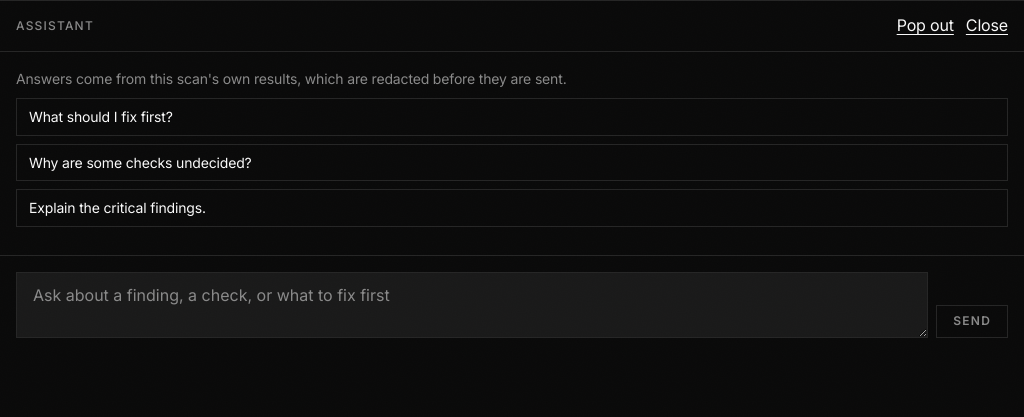
Test: Assistant › passes the earlier turns so a follow-up has something to refer to
This screenshot has width=1024, height=417.
Type "what first?" into the text box named "ask about this scan" at (472, 305), box [16, 272, 928, 338]
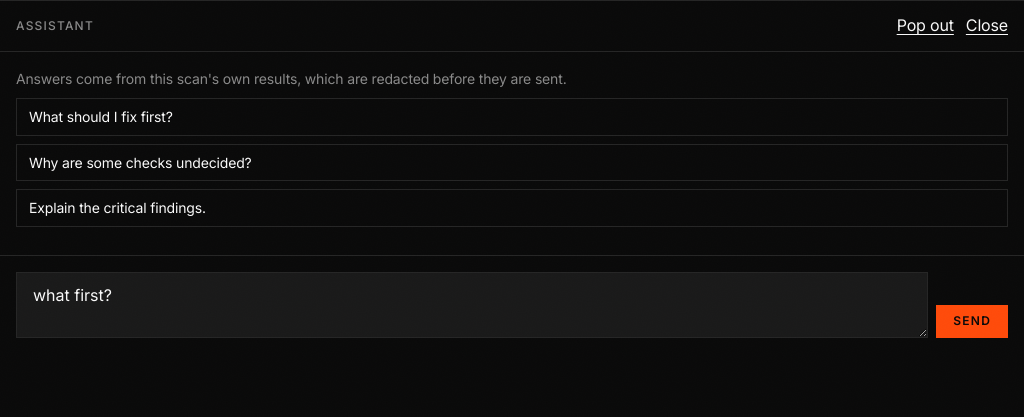
Click the button "Send" at (972, 322), box [936, 305, 1008, 338]
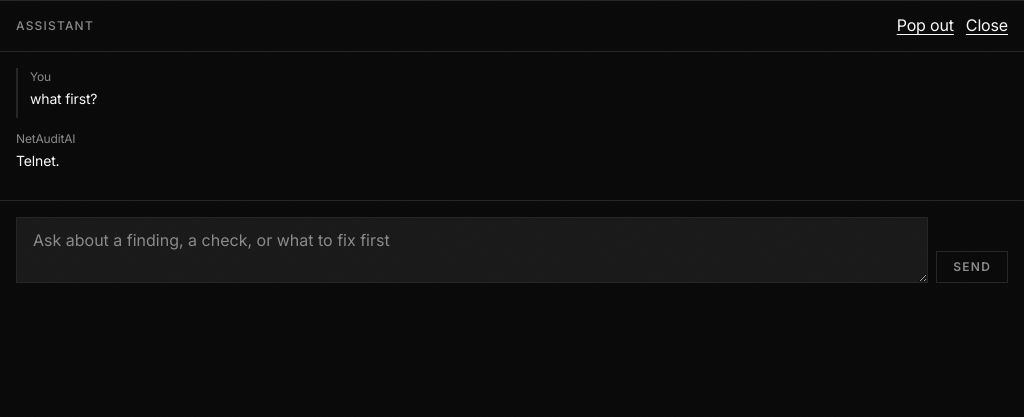
Result: the text "Telnet." is shown at [16, 152, 59, 170]
Type "why?" into the text box named "ask about this scan" at (472, 250), box [16, 217, 928, 283]
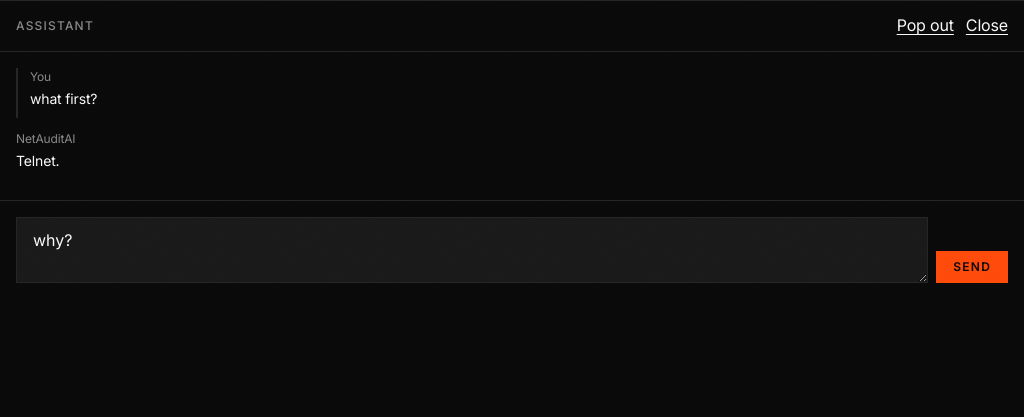
Click the button "Send" at (972, 267), box [936, 251, 1008, 283]
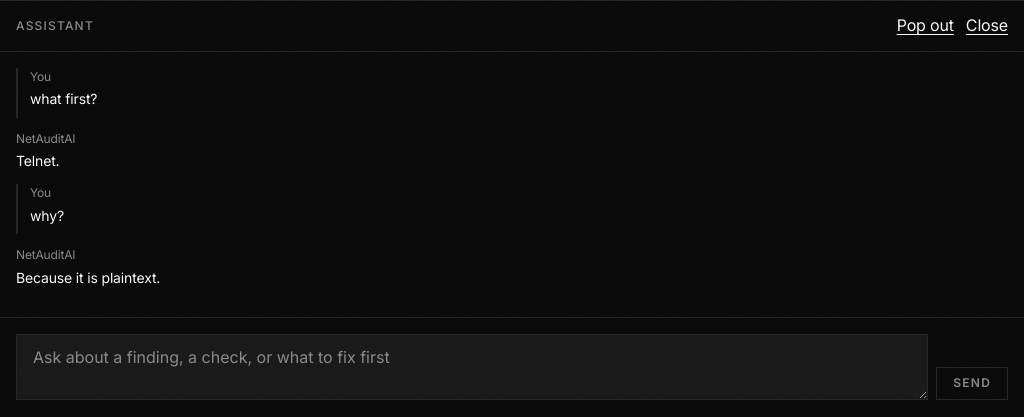
Result: the text "Because it is plaintext." is shown at [16, 269, 160, 286]
